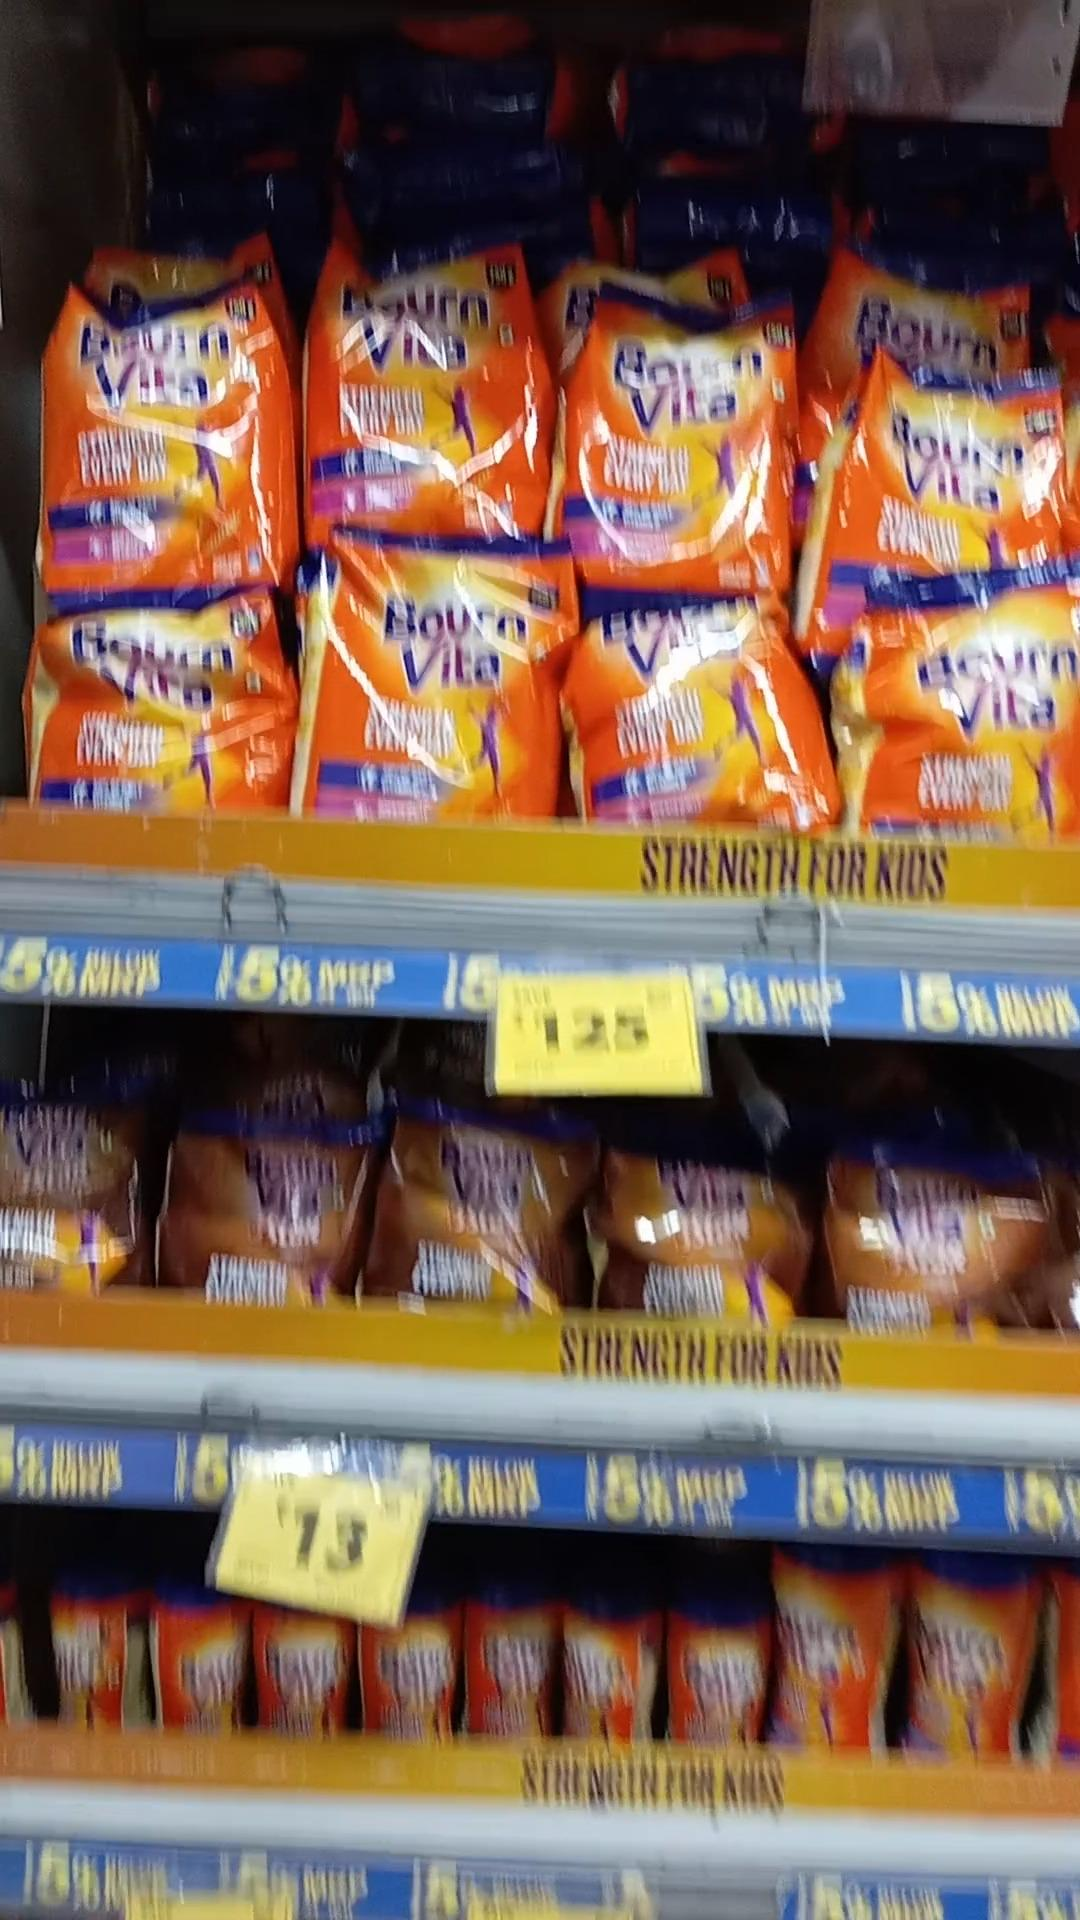BOURN_VITA_200_G_JAR: (158, 1576, 248, 1742), (459, 1584, 555, 1735), (670, 1600, 765, 1747), (361, 1593, 450, 1742), (45, 1568, 115, 1731), (563, 1593, 634, 1746)
BOURN_VITA_500_G_JAR: (913, 1547, 1017, 1763), (777, 1543, 869, 1754)
BOURN_VITA_750_G_POUCH: (313, 545, 549, 829), (45, 286, 260, 599), (322, 245, 533, 556), (864, 579, 1080, 862), (575, 293, 773, 596), (579, 605, 812, 825), (40, 607, 276, 819), (861, 360, 1080, 574)
BOURN_VITA_FIVE_STAR_MAGIC_500_G_POUCH: (832, 1153, 1050, 1337), (166, 1116, 345, 1311), (380, 1109, 560, 1302), (601, 1146, 783, 1323), (0, 1100, 135, 1290)
